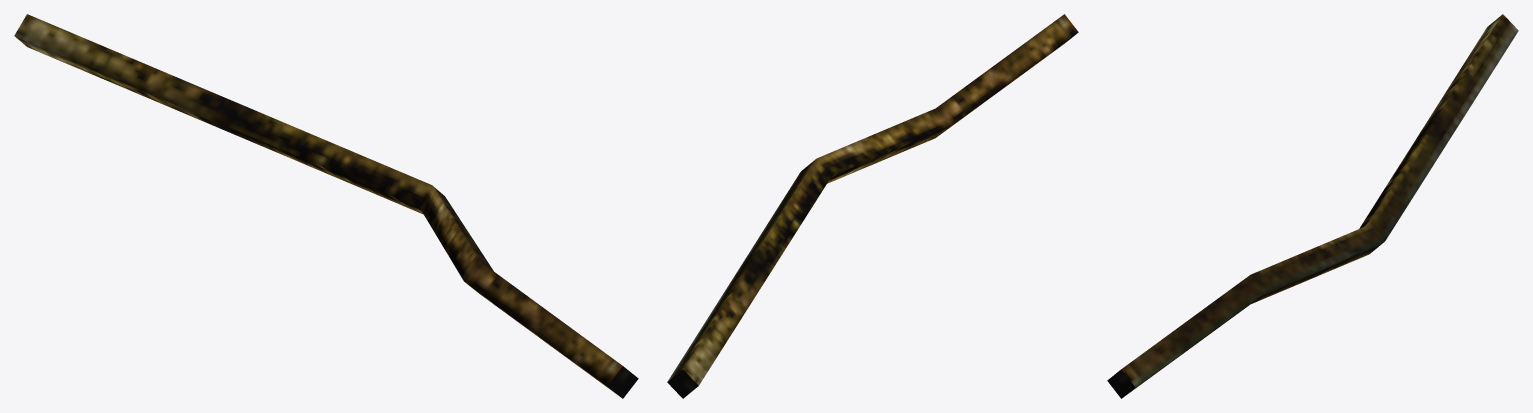
The model's file is pipe4.fbx.
3 renders of one model, left to right at view 1: azimuth 30°, elevation 25°; view 2: azimuth 150°, elevation 25°; view 3: azimuth 330°, elevation 25°, orthographic. The views are drawn at different scales.
Visible parts, largest first — view 1: pipe47; view 2: pipe47; view 3: pipe47.
Boxes of the visible parts, box(x1,y1,x2,y2) form: pipe47: box(14, 14, 638, 398); pipe47: box(667, 14, 1078, 398); pipe47: box(1107, 14, 1518, 398).
Bounding box in the file's own units: 0.4173 × 0.0829 × 2.33.
1 material, 1 textured.
